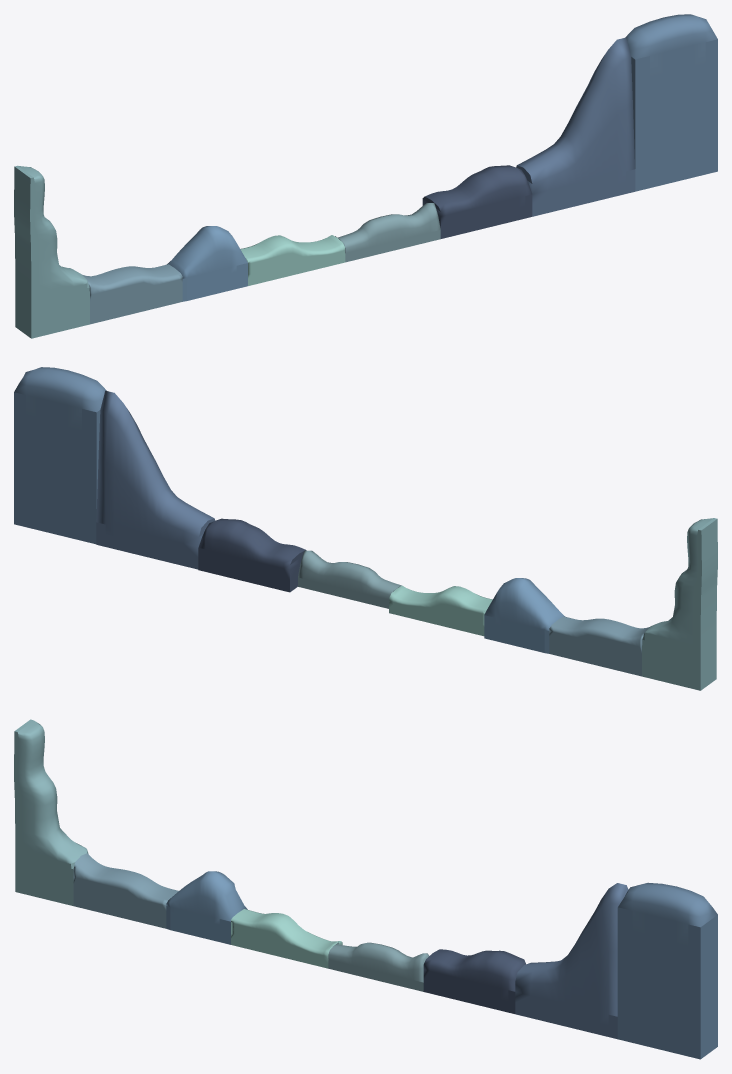
File: Reef01.fbx
The picture shows the model from 3 angles, top to bottom: view 1: azimuth 30°, elevation 25°; view 2: azimuth 150°, elevation 25°; view 3: azimuth 330°, elevation 25°; orthographic projection.
Visible parts, largest first — view 1: Reef08, Reef07, Reef01, Reef06, Reef02, Reef03, Reef04, Reef05; view 2: Reef08, Reef07, Reef01, Reef06, Reef02, Reef03, Reef04, Reef05; view 3: Reef08, Reef07, Reef01, Reef06, Reef02, Reef03, Reef04, Reef05.
Part boxes in pixels (x1=…): Reef08: x1=625, y1=14, x2=717, y2=191; Reef07: x1=516, y1=37, x2=635, y2=216; Reef01: x1=14, y1=165, x2=89, y2=338; Reef06: x1=422, y1=165, x2=532, y2=238; Reef02: x1=82, y1=264, x2=182, y2=324; Reef03: x1=167, y1=226, x2=247, y2=301; Reef04: x1=240, y1=235, x2=345, y2=285; Reef05: x1=335, y1=203, x2=440, y2=262; Reef08: x1=14, y1=367, x2=106, y2=544; Reef07: x1=96, y1=390, x2=215, y2=569; Reef01: x1=642, y1=518, x2=717, y2=690; Reef06: x1=198, y1=518, x2=306, y2=592; Reef02: x1=549, y1=616, x2=650, y2=676; Reef03: x1=484, y1=578, x2=564, y2=653; Reef04: x1=389, y1=585, x2=492, y2=636; Reef05: x1=298, y1=550, x2=401, y2=608; Reef08: x1=617, y1=882, x2=717, y2=1059; Reef07: x1=515, y1=883, x2=628, y2=1039; Reef01: x1=14, y1=719, x2=88, y2=905; Reef06: x1=423, y1=949, x2=525, y2=1013; Reef02: x1=73, y1=853, x2=178, y2=928; Reef03: x1=166, y1=871, x2=247, y2=944; Reef04: x1=231, y1=909, x2=342, y2=968; Reef05: x1=328, y1=942, x2=428, y2=991.
Size of the model in its own units: 2276 by 508 by 105.
